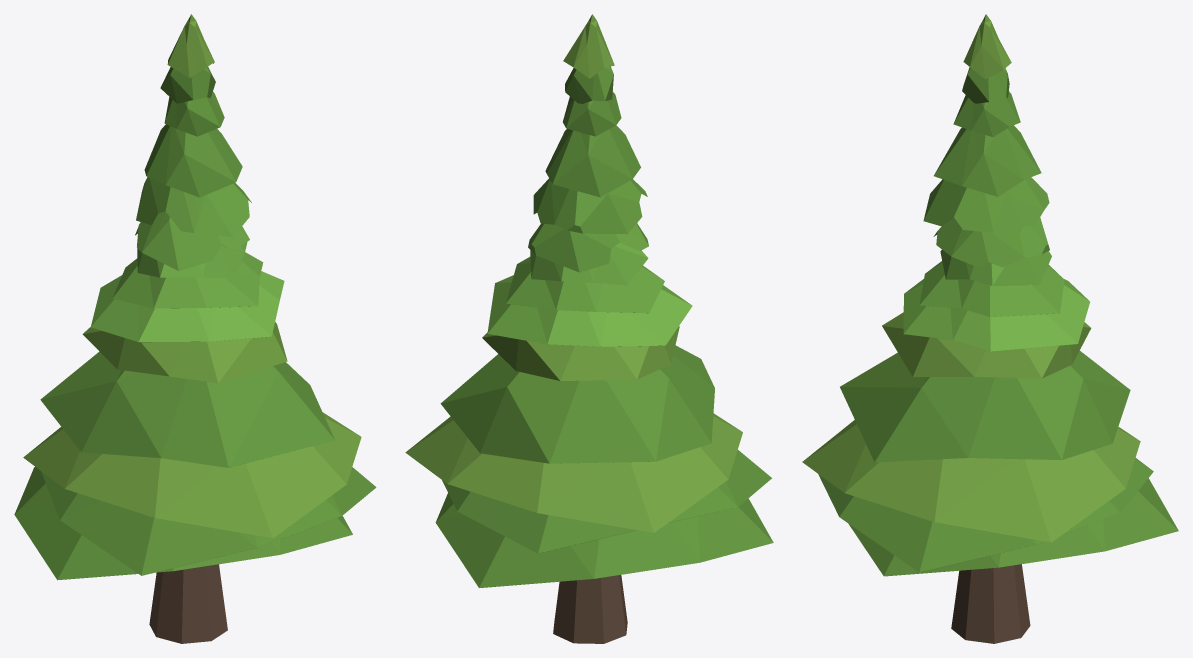
The model's file is tree6a.glb.
The picture shows the model from 3 angles, left to right: view 1: azimuth 30°, elevation 25°; view 2: azimuth 150°, elevation 25°; view 3: azimuth 270°, elevation 25°; orthographic projection.
Visible parts, largest first — view 1: tree_0087; view 2: tree_0087; view 3: tree_0087.
Part boxes in pixels (bbox=[...]): tree_0087: bbox=[14, 14, 376, 643]; tree_0087: bbox=[405, 14, 773, 643]; tree_0087: bbox=[802, 14, 1178, 643].
Bounding box in the file's own units: 1.9 × 3.56 × 1.98.
